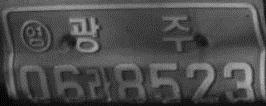0: (18, 64, 50, 103)
2: (183, 62, 218, 103)
3: (222, 61, 257, 103)
5: (148, 62, 181, 103)
6: (53, 63, 84, 103)
8: (114, 63, 146, 102)
광주_D: (68, 15, 192, 54)
라: (86, 66, 113, 104)
영: (19, 18, 53, 53)
